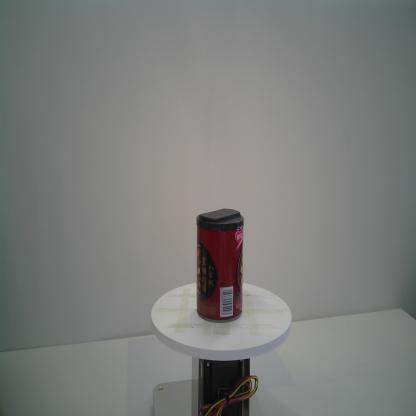Canned Food: (194, 207, 245, 323)
